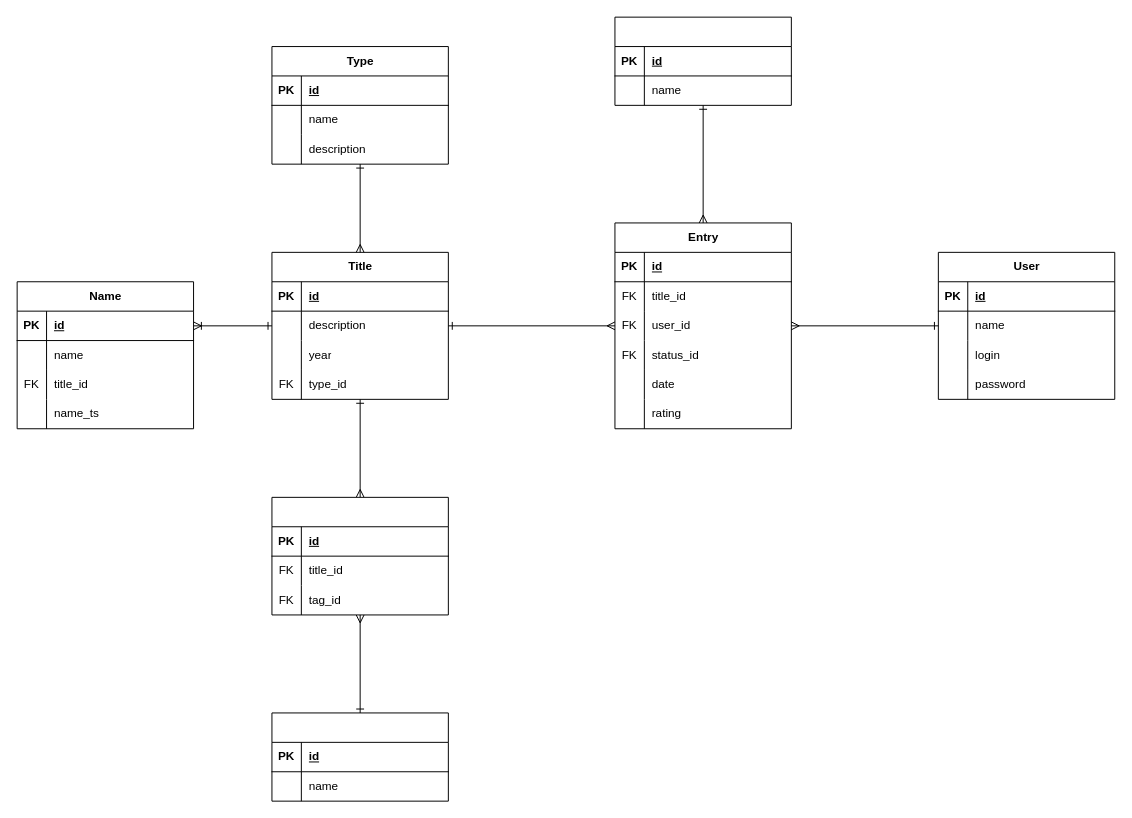
Image size: 1132x818. Some labels were removed from this diagram. The box of each missing label's shape, as (x1, y1, x2, y2) in pixels:
Status: (614, 16, 791, 105)
Tag: (271, 712, 448, 801)
Tag_Title: (271, 496, 448, 615)
